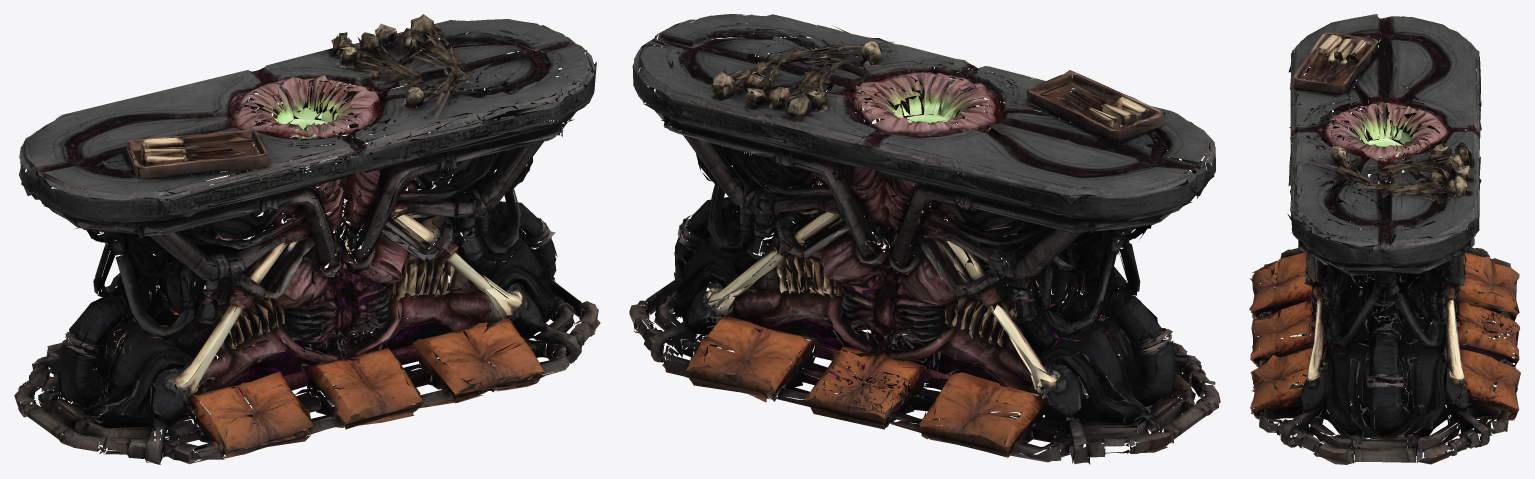
Rendered from tallow_sacrificial_altar.glb.
The picture shows the model from 3 angles, left to right: view 1: azimuth 30°, elevation 25°; view 2: azimuth 150°, elevation 25°; view 3: azimuth 270°, elevation 25°; orthographic projection. The views are drawn at different scales.
Parts seen in each view (by area): view 1: node_0; view 2: node_0; view 3: node_0.
Boxes of the visible parts, <box> form: node_0: <box>14,14,600,464</box>; node_0: <box>629,14,1220,464</box>; node_0: <box>1249,14,1520,464</box>.
Size of the model in its own units: 1.1 by 0.5619 by 0.5507.
1 material, 1 textured.
